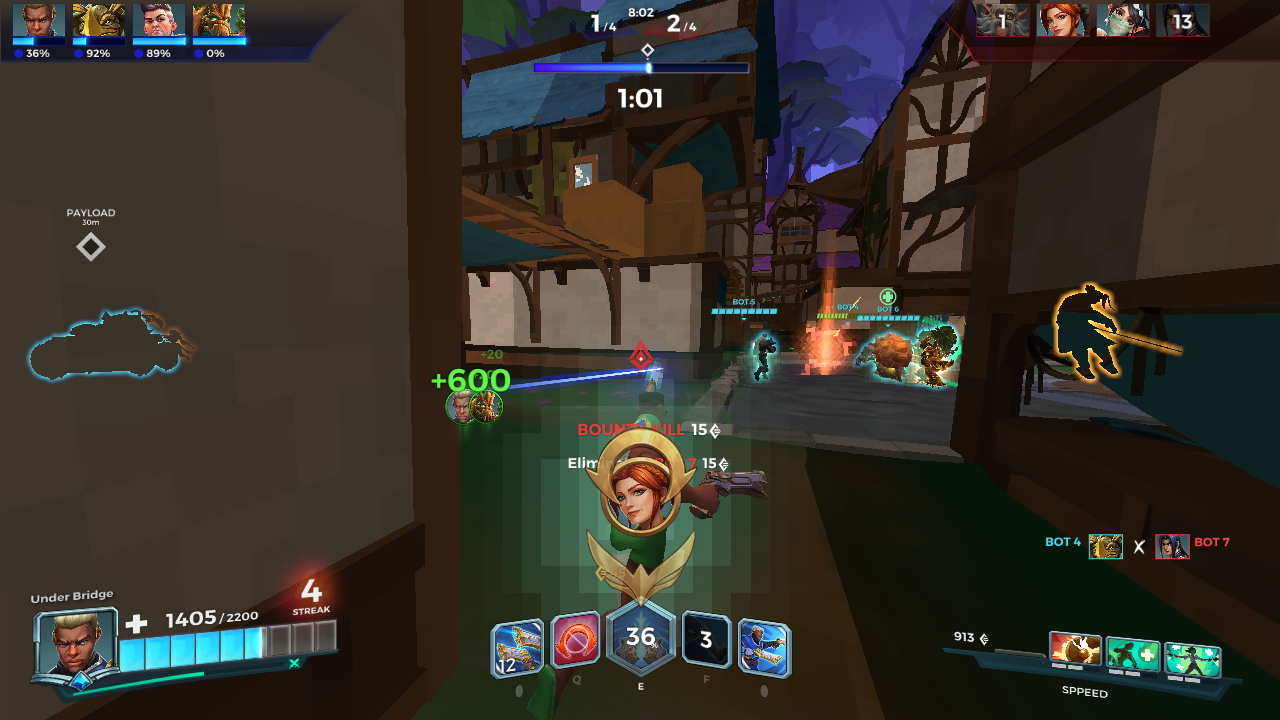model: (1051, 274, 1129, 389)
